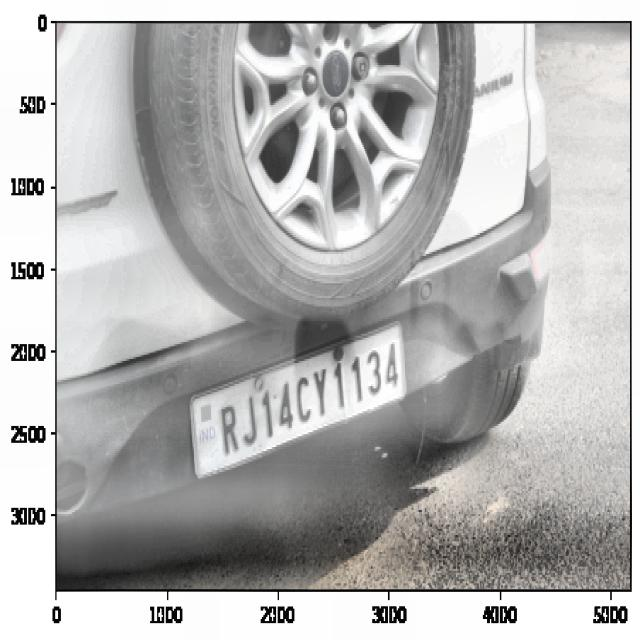license_plate: (213, 338, 403, 456)
